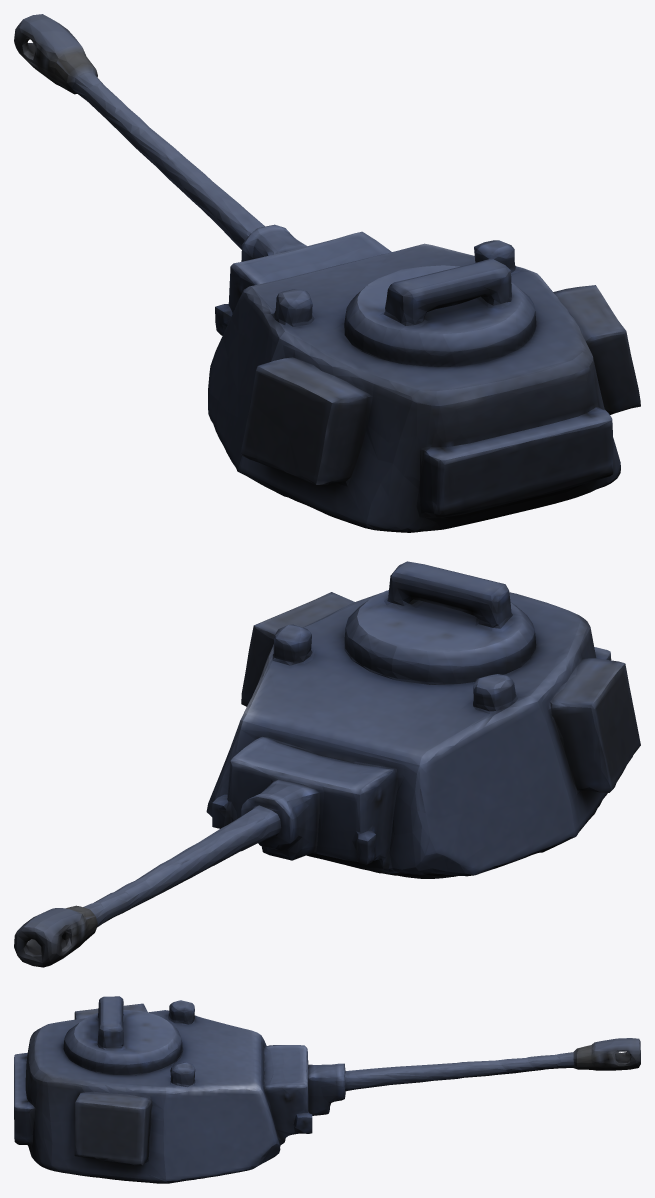
Rendered from m24_chaffee_turret_enemy.glb.
3 views of the same model, one above another, from view 1: azimuth 30°, elevation 25°; view 2: azimuth 150°, elevation 25°; view 3: azimuth 270°, elevation 25° (orthographic). The views are drawn at different scales.
Visible parts, largest first — view 1: turret; view 2: turret; view 3: turret.
Boxes of the visible parts, box(x1,y1,x2,y2) form: turret: box(14, 14, 640, 532); turret: box(14, 561, 640, 967); turret: box(14, 996, 640, 1183).
Bounding box in the file's own units: 0.3211 × 0.159 × 0.7414.
2 materials, 2 textured.
